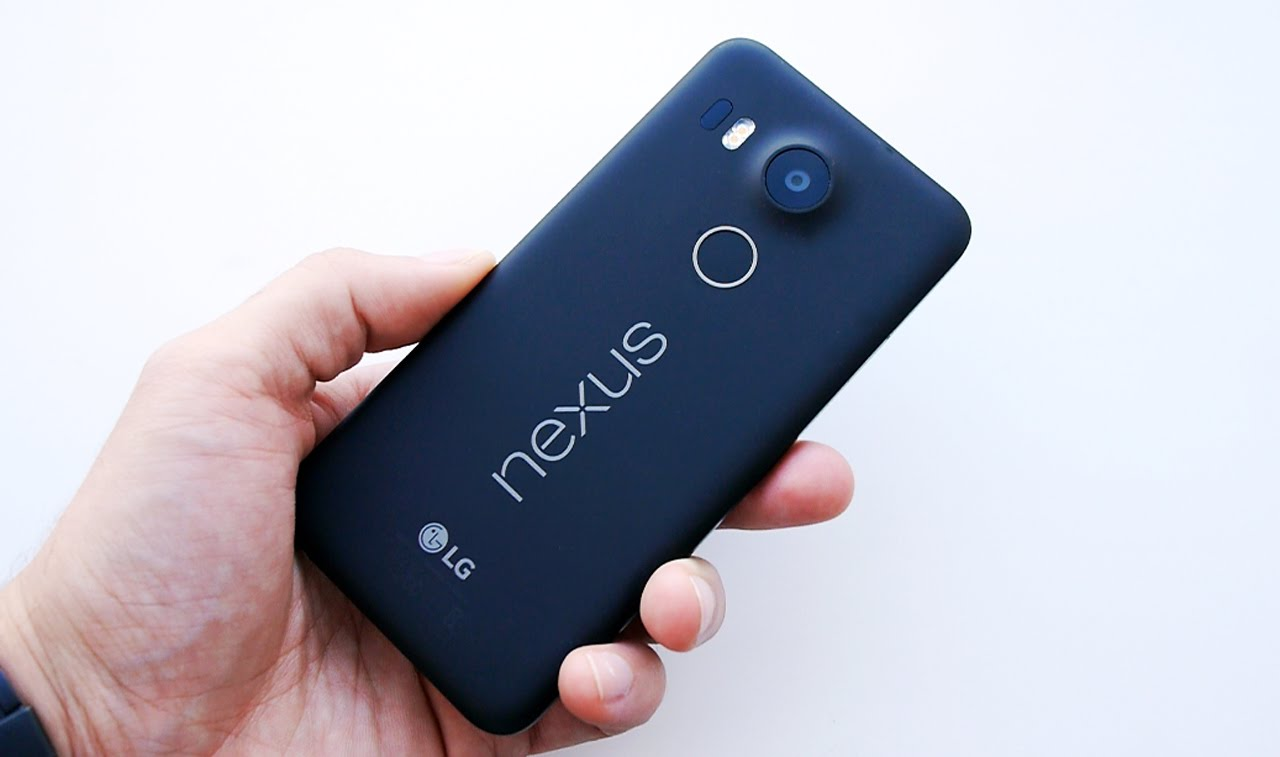smartphone: (293, 36, 972, 737)
